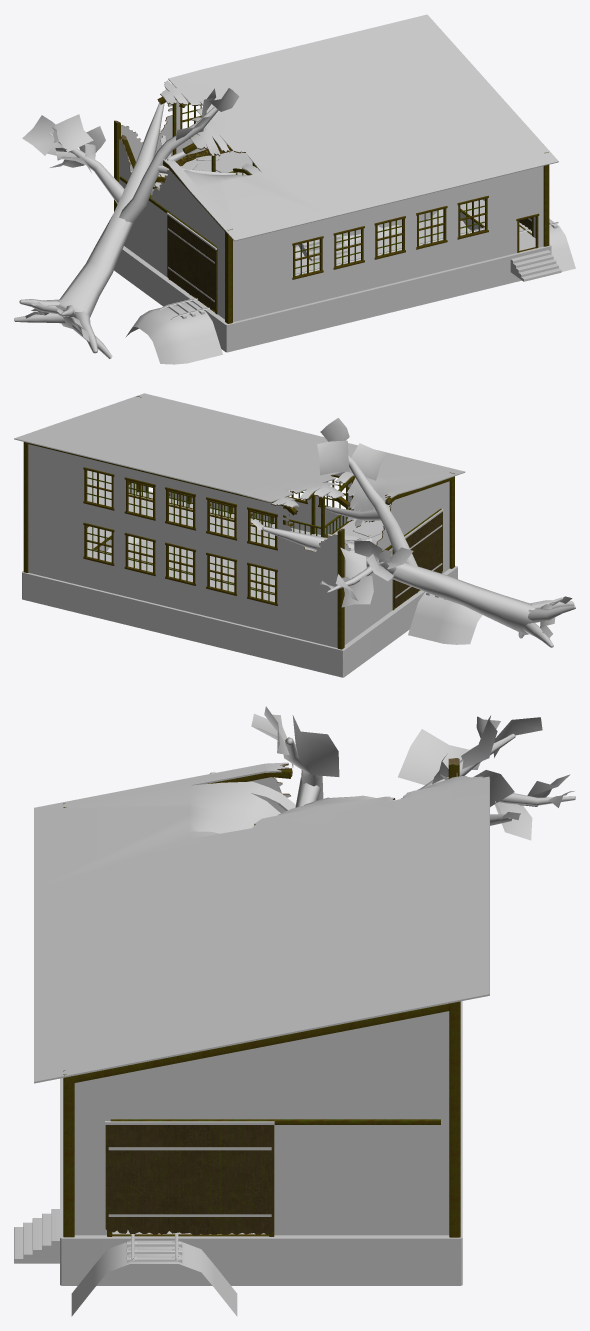
The model's file is oficina_10Jun.fbx.
3 renders of one model, top to bottom at view 1: azimuth 30°, elevation 25°; view 2: azimuth 150°, elevation 25°; view 3: azimuth 270°, elevation 25°, orthographic. The views are drawn at different scales.
Parts seen in each view (by area): view 1: polySurface27; view 2: polySurface27; view 3: polySurface27.
Part boxes in pixels (x1,y1,x2,y2): polySurface27: (14,14,575,364); polySurface27: (14,393,575,677); polySurface27: (14,706,575,1316).
Bounding box in the file's own units: 3881 × 1516 × 2116.
